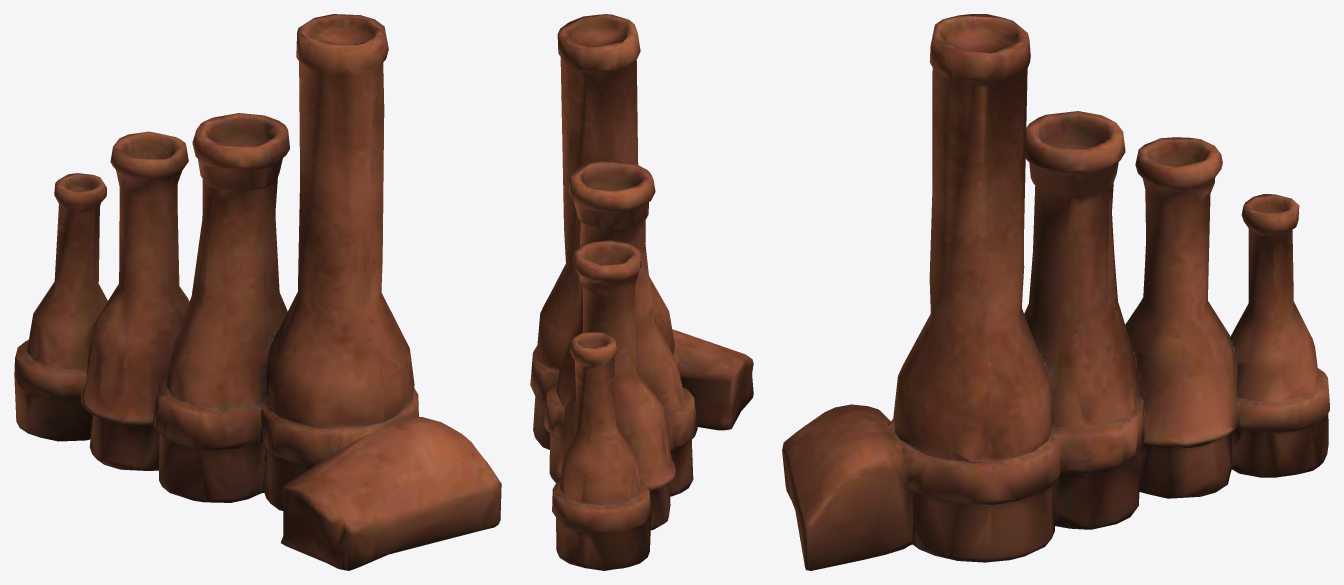
The model's file is simple-terracotta-chimney-stack-v001.glb.
3 views of the same model, side by side, from view 1: azimuth 30°, elevation 25°; view 2: azimuth 150°, elevation 25°; view 3: azimuth 270°, elevation 25° (orthographic). The views are drawn at different scales.
Parts seen in each view (by area): view 1: simple-terracotta-chimney-stack; view 2: simple-terracotta-chimney-stack; view 3: simple-terracotta-chimney-stack.
Boxes of the visible parts, x1,y1,x2,y2 form: simple-terracotta-chimney-stack: (14,14,501,570); simple-terracotta-chimney-stack: (530,14,753,570); simple-terracotta-chimney-stack: (782,14,1329,570).
Bounding box in the file's own units: 1.15 × 1.87 × 1.86.
1 material, 1 textured.
